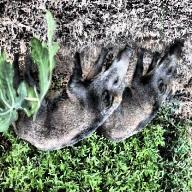boar: (8, 36, 135, 160), (89, 18, 192, 168)
